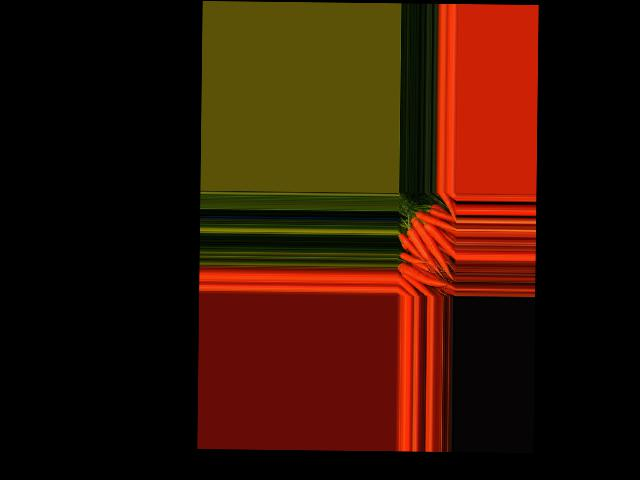carrot: (424, 222, 457, 259)
